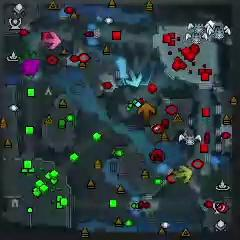p3: (21, 59, 42, 76)
x1: (43, 32, 62, 50)
x2: (174, 165, 192, 184)
x3: (125, 71, 143, 87)
x4: (17, 47, 38, 63)
x5: (137, 102, 156, 123)
